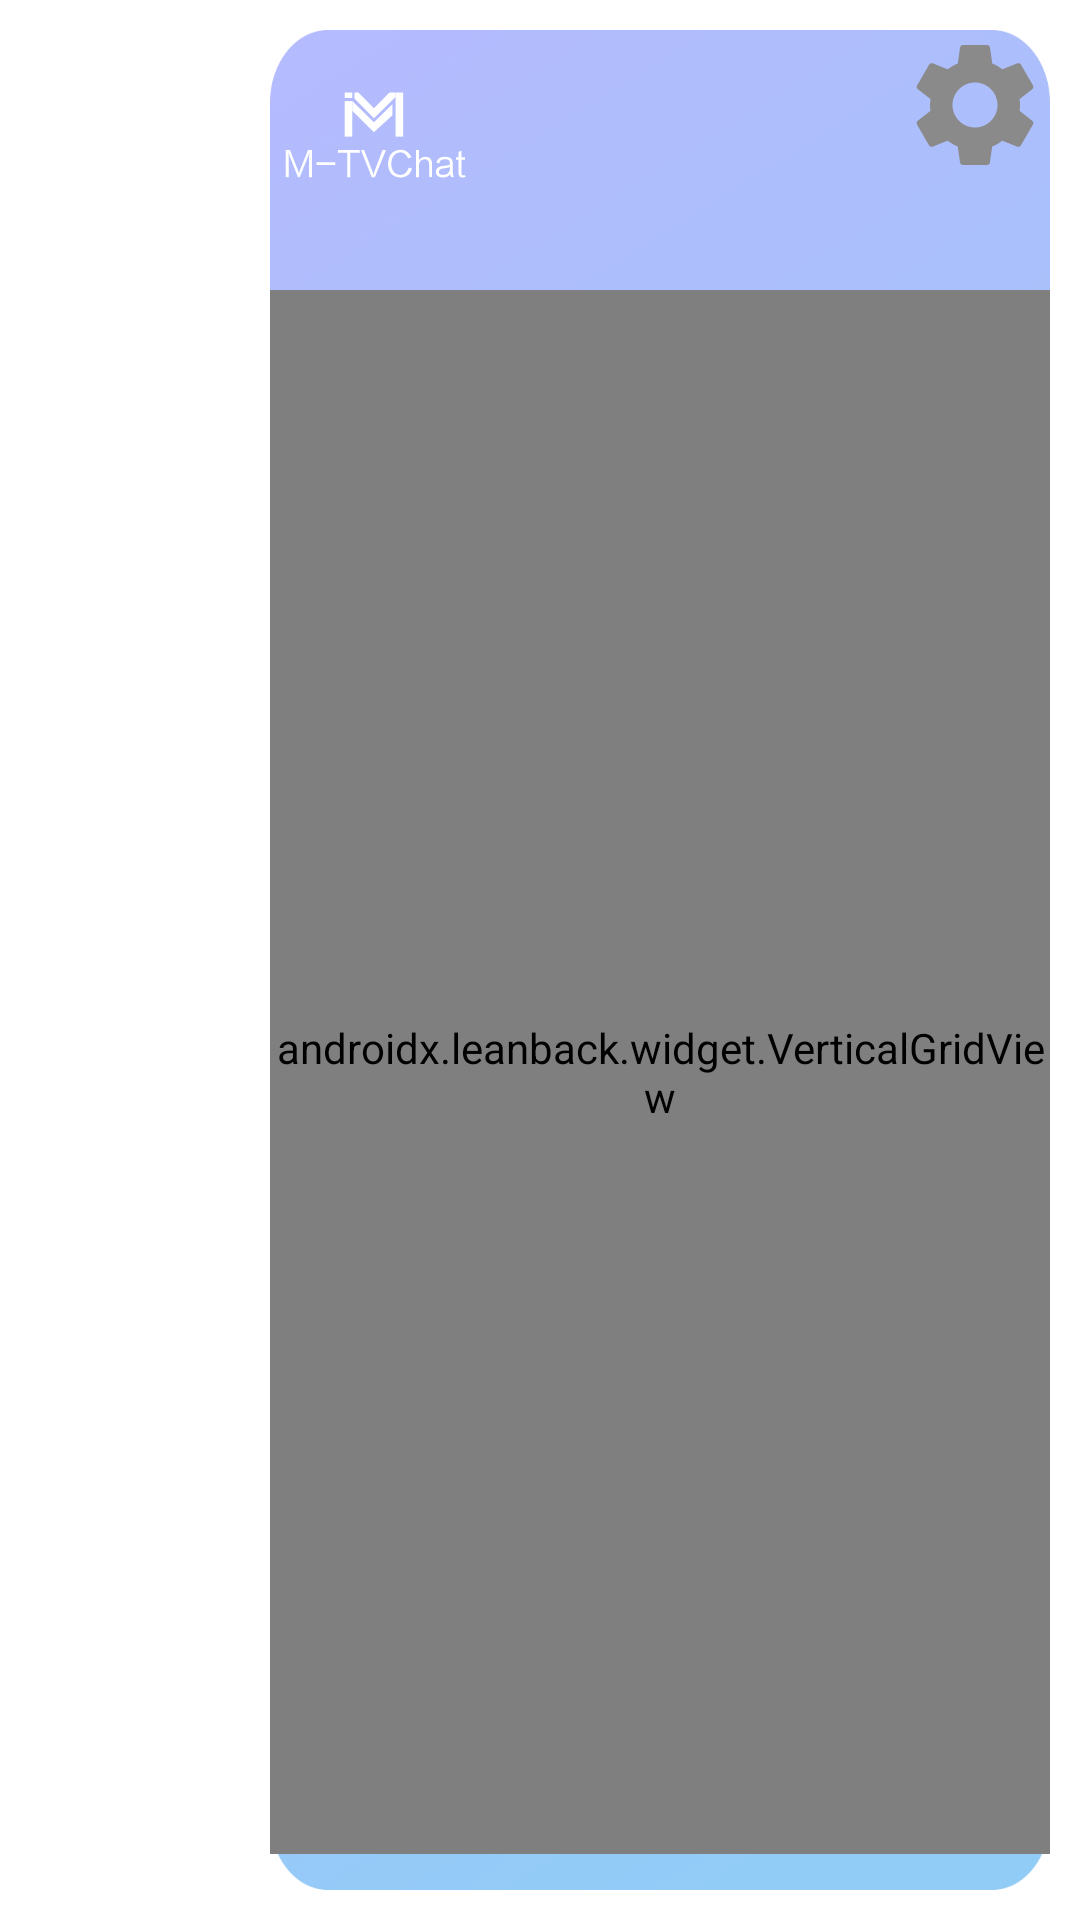

Icon click points for this 1080 x 1920 phone screenshot, format (x=x, y=y):
slector setting: (x=975, y=105)
